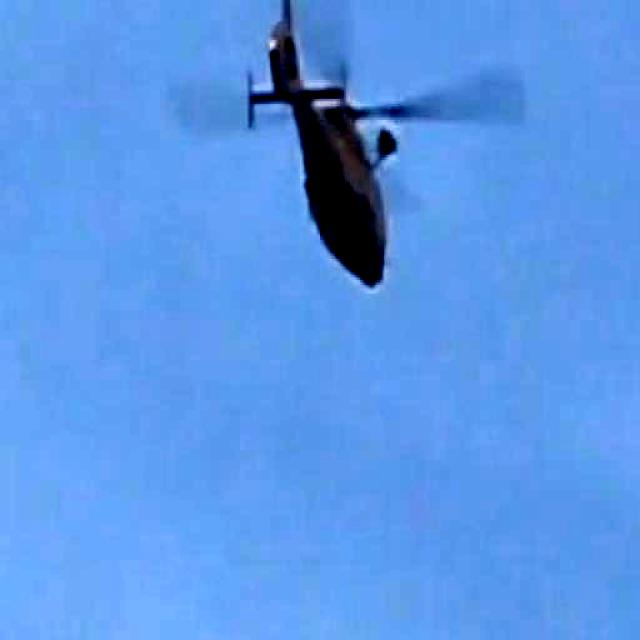drone: (242, 0, 434, 294)
